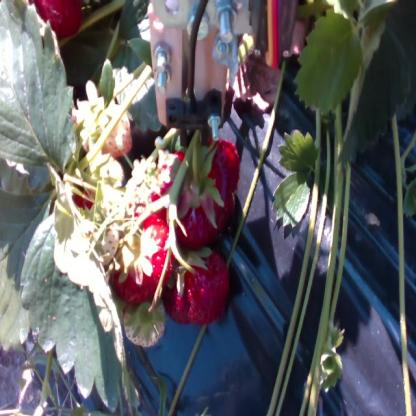ripe: (172, 143, 239, 236), (113, 216, 176, 301), (172, 249, 234, 322), (30, 0, 82, 33)
unripe: (91, 101, 133, 156)
